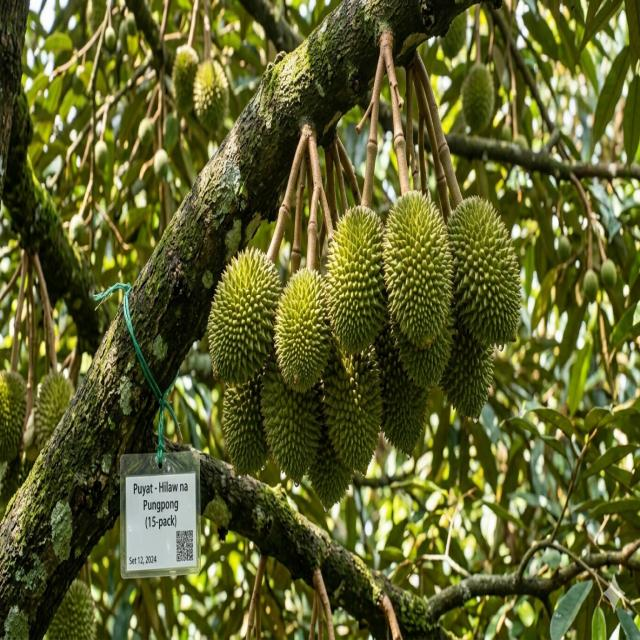immature: (380, 186, 454, 356), (444, 192, 522, 351), (207, 247, 282, 387), (322, 202, 388, 355), (320, 341, 381, 486), (262, 351, 326, 483), (372, 323, 431, 455), (272, 269, 332, 391), (439, 314, 497, 419), (220, 370, 271, 476), (307, 429, 353, 510), (34, 369, 74, 453), (46, 576, 98, 638), (192, 57, 230, 134), (1, 367, 30, 462), (460, 64, 496, 135), (171, 45, 200, 115), (1, 449, 24, 504), (442, 12, 467, 58)
